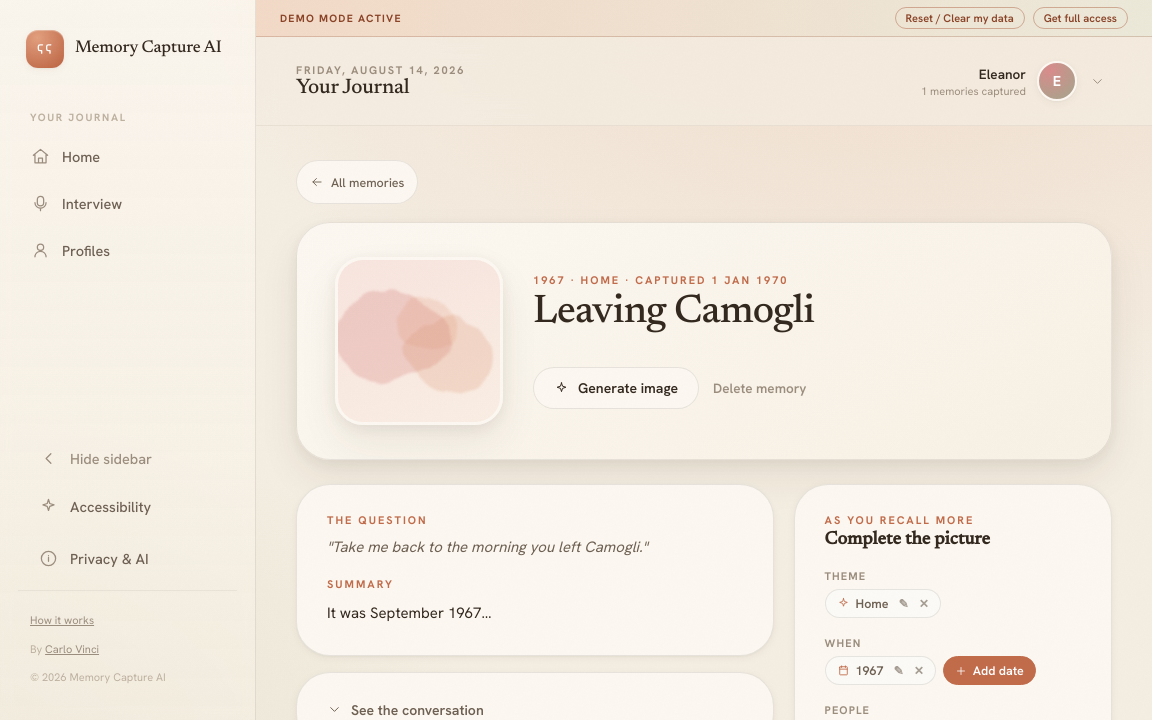
it: memory detail view (#5) › shows the full conversation transcript when the expand button is clicked
Click the button "See the conversation". click: [417, 710]
box: [327,700,743,718]
(page scrolled)
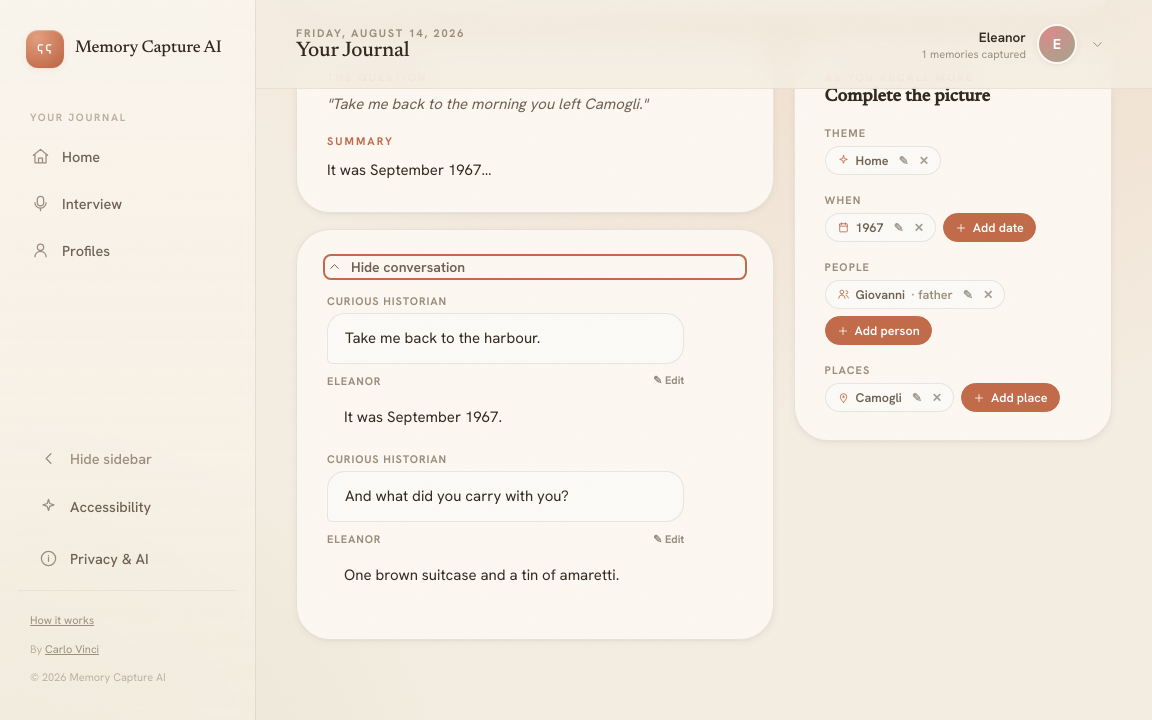
Result: the text "And what did you carry with you?" is shown at [327,471,684,522]
Result: the text "One brown suitcase and a tin of amaretti." is shown at [344,565,619,585]
